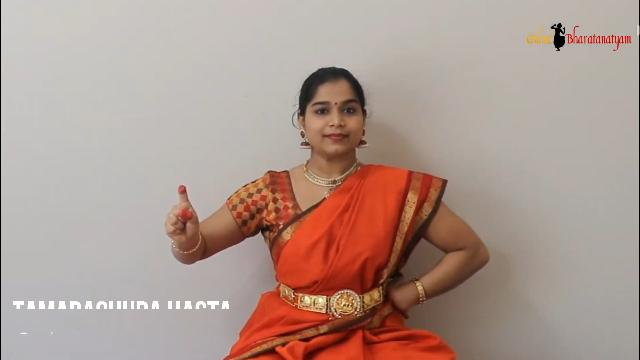tamrachud: (152, 172, 224, 276)
